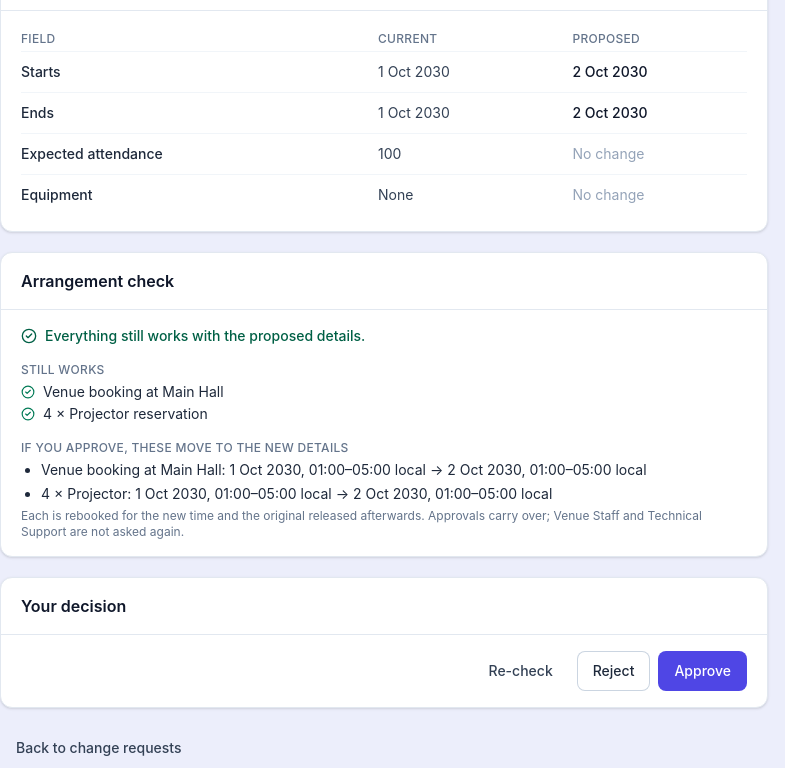
Scenario: US-48 the review page › US-48 AC-8: a stale page — the server refuses, the page refreshes and Approve is disabled
The width and height of the screenshot is (785, 768).
(page scrolled)
Click the button "Approve". click: (703, 671)
box: left=658, top=651, right=747, bottom=691
(page scrolled)
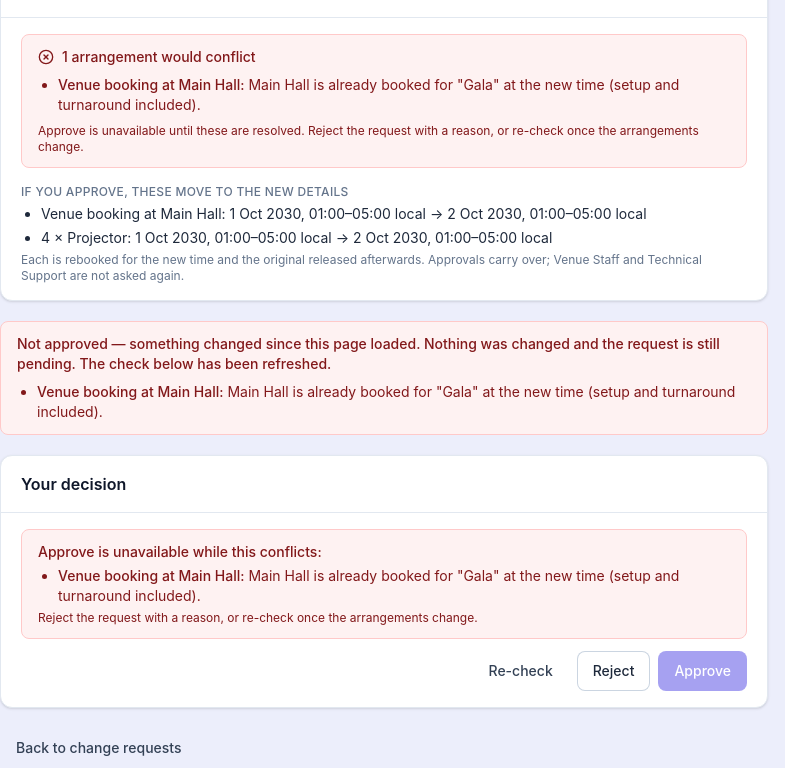
Expected: the button "Reject" is enabled, left=577, top=651, right=650, bottom=691
Result: the text "Not approved — something changed since this page loaded. Nothing was changed and the request is still pending" is shown at left=17, top=335, right=720, bottom=372
Result: the button "Approve" is disabled at left=658, top=651, right=747, bottom=691
